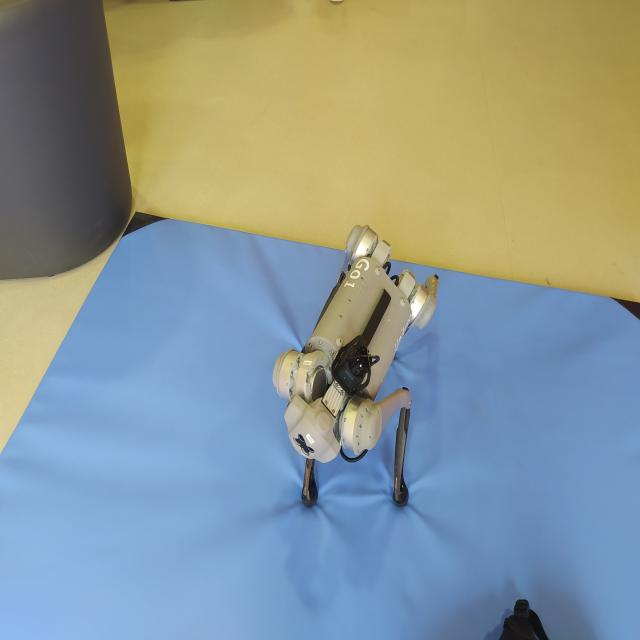unitree-go1-robot: (277, 229, 437, 516)
